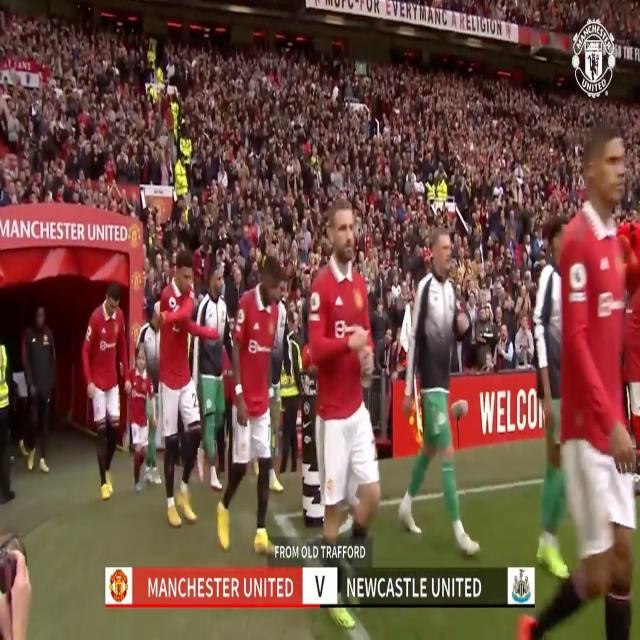Adidas: (335, 292, 346, 309)
Nike: (302, 417, 313, 433)
TeamViewer: (249, 337, 272, 355)
